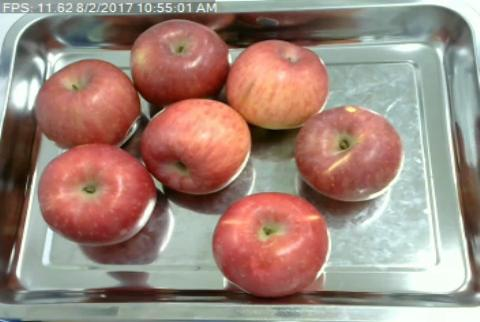apple: (212, 192, 330, 296), (38, 145, 156, 246), (295, 105, 404, 201), (143, 99, 253, 193), (33, 58, 144, 147), (229, 40, 328, 127), (130, 19, 229, 102)
